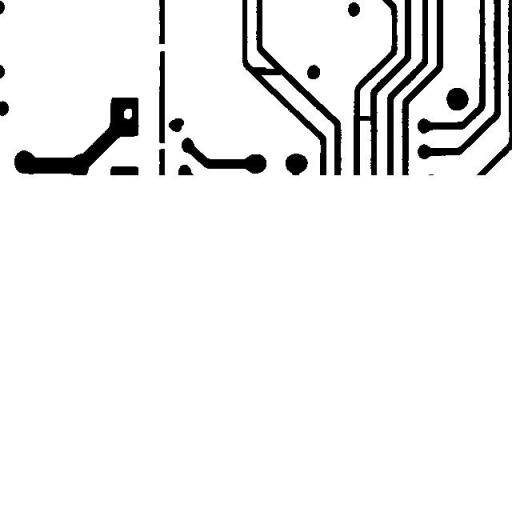copper: (161, 110, 191, 140)
open: (148, 36, 174, 59), (150, 135, 174, 157)
pin-hole: (116, 101, 139, 126)
short: (244, 60, 290, 82), (349, 108, 383, 128)
